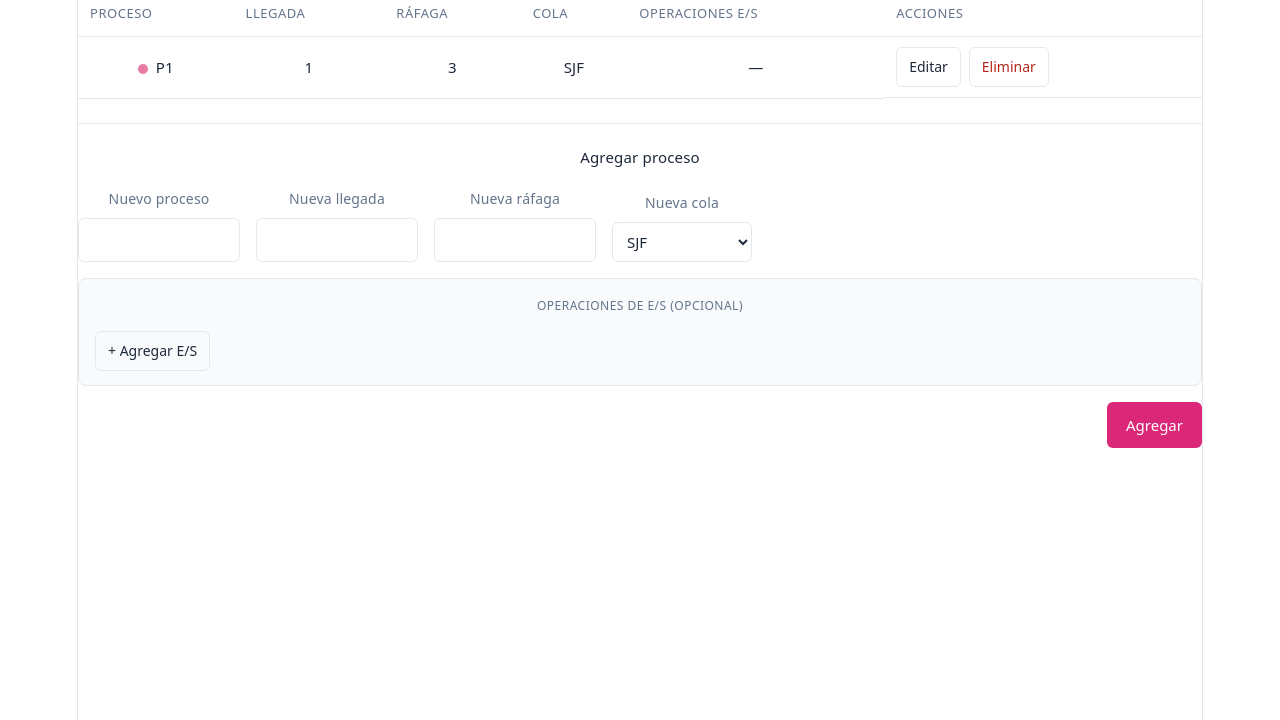
it: ProcessTable › updates an existing row's burstTime to a new valid value [4.2]
Click the button "Editar".
click(928, 67)  # box 896,47 -> 961,87
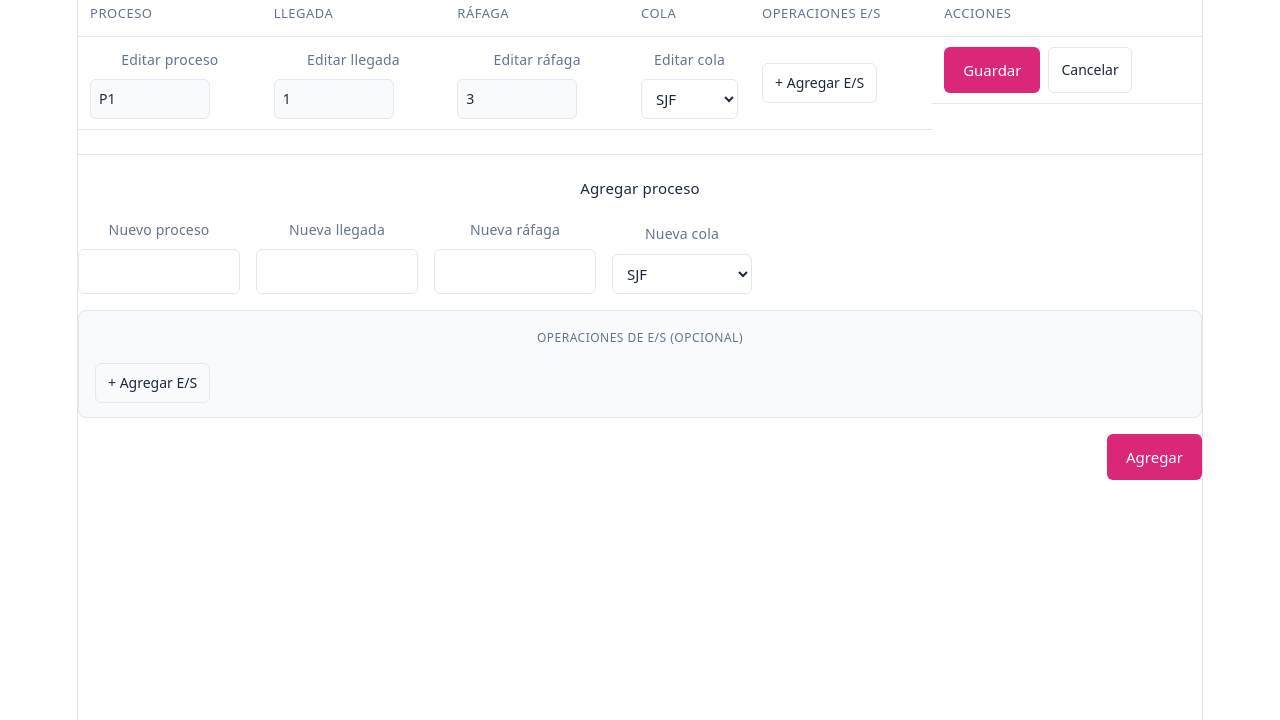
Replace the text in the field labelled "Editar ráfaga" with "7" at (517, 99), box 457,79 -> 577,119
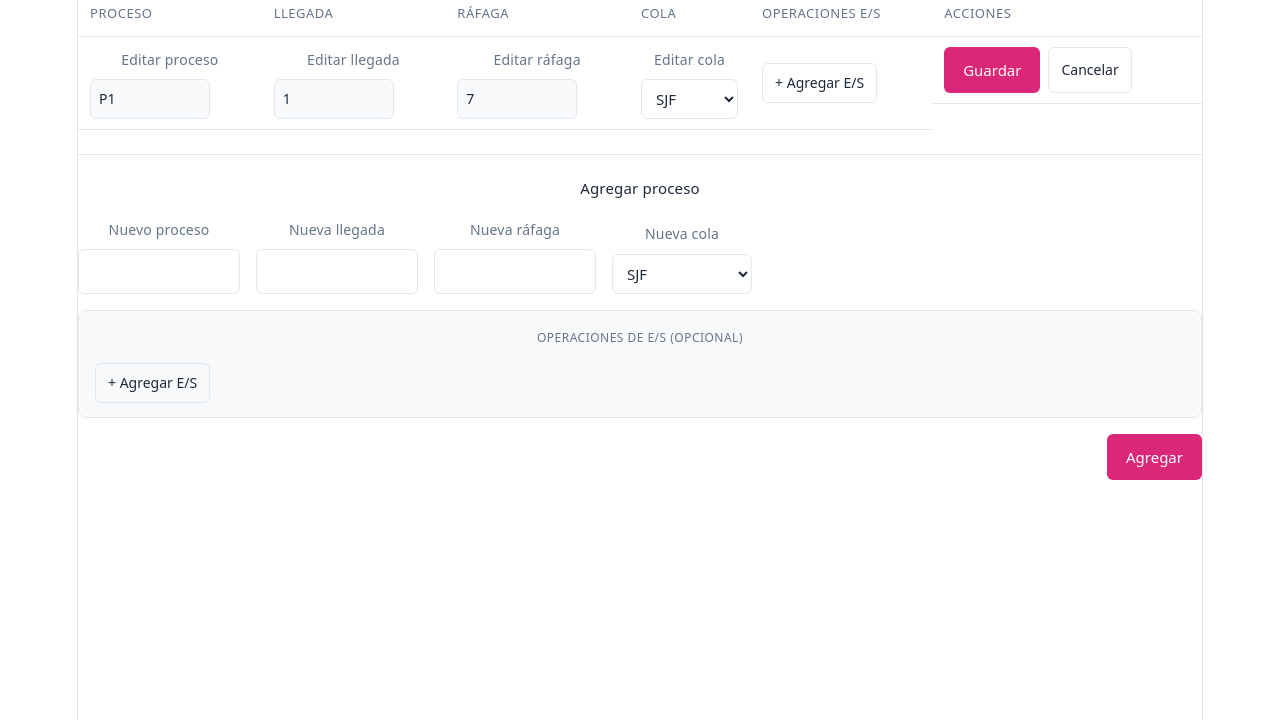
Click the button "Guardar".
click(992, 70)  # box 944,47 -> 1040,93
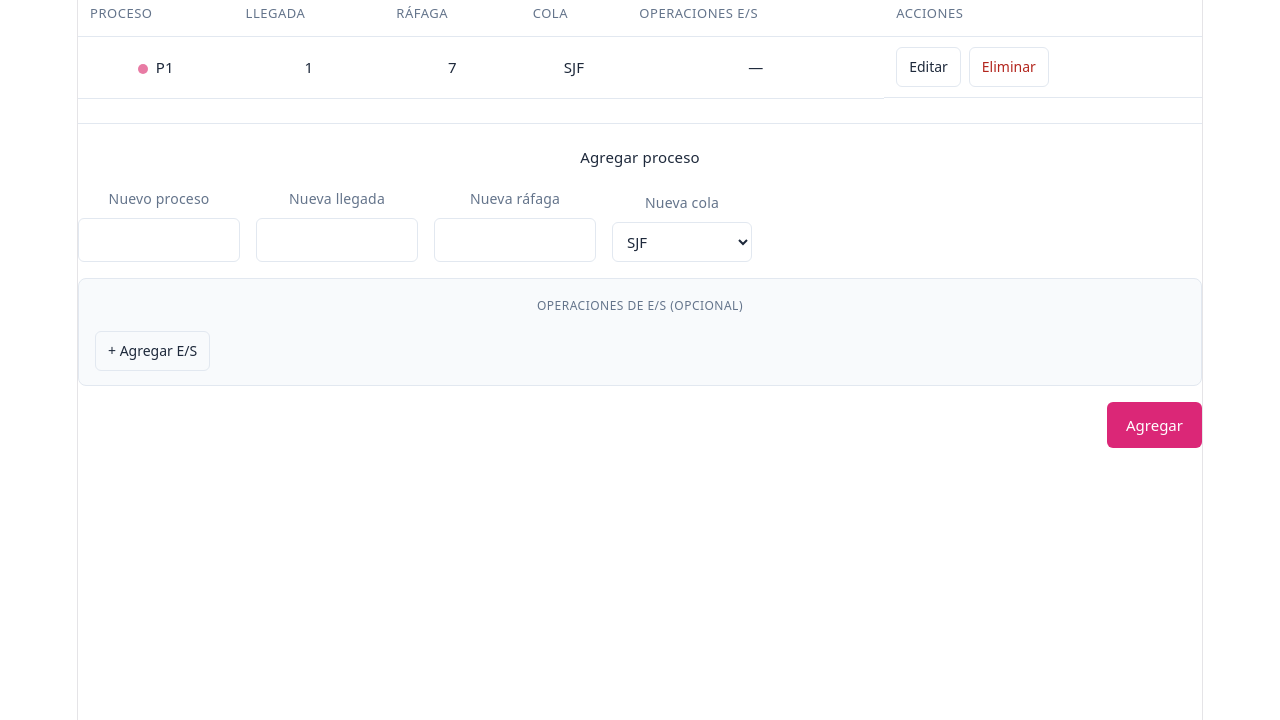
Check: the text "3" is not shown
Check: the text "7" is shown, box 384,37 -> 521,98
